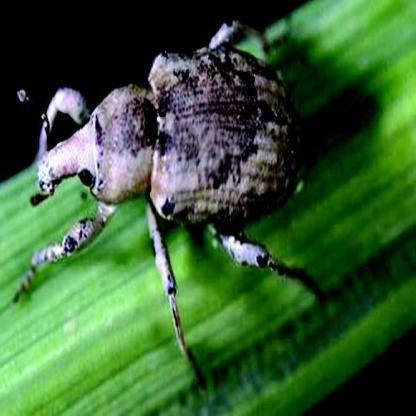rice-bug: (31, 18, 306, 299)
